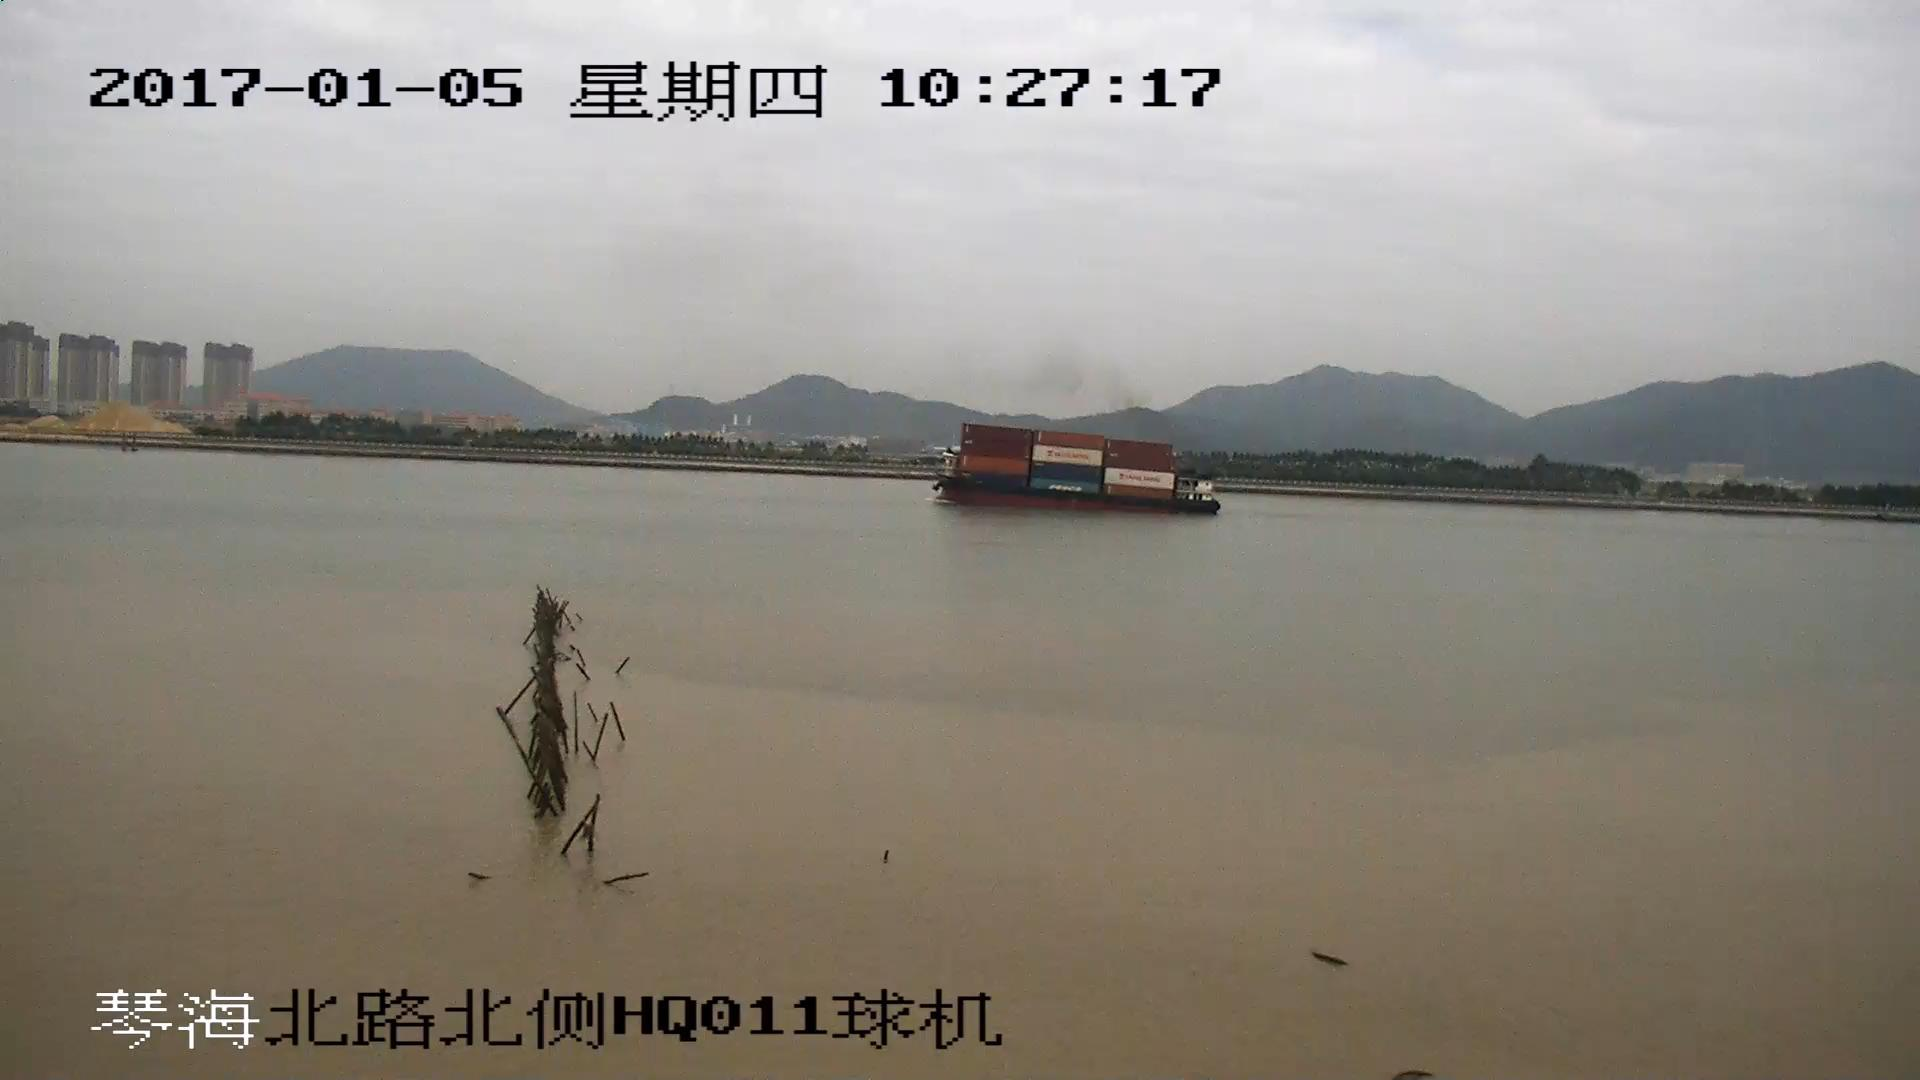Ship: (924, 425, 1218, 520)
